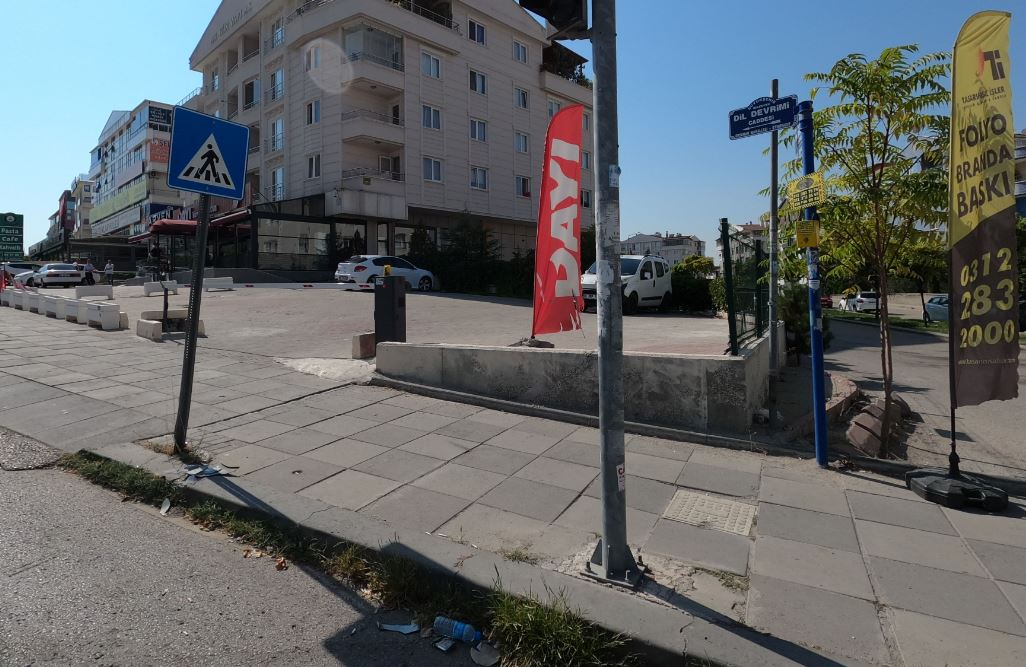Yaya Gecidi: (164, 108, 247, 197)
